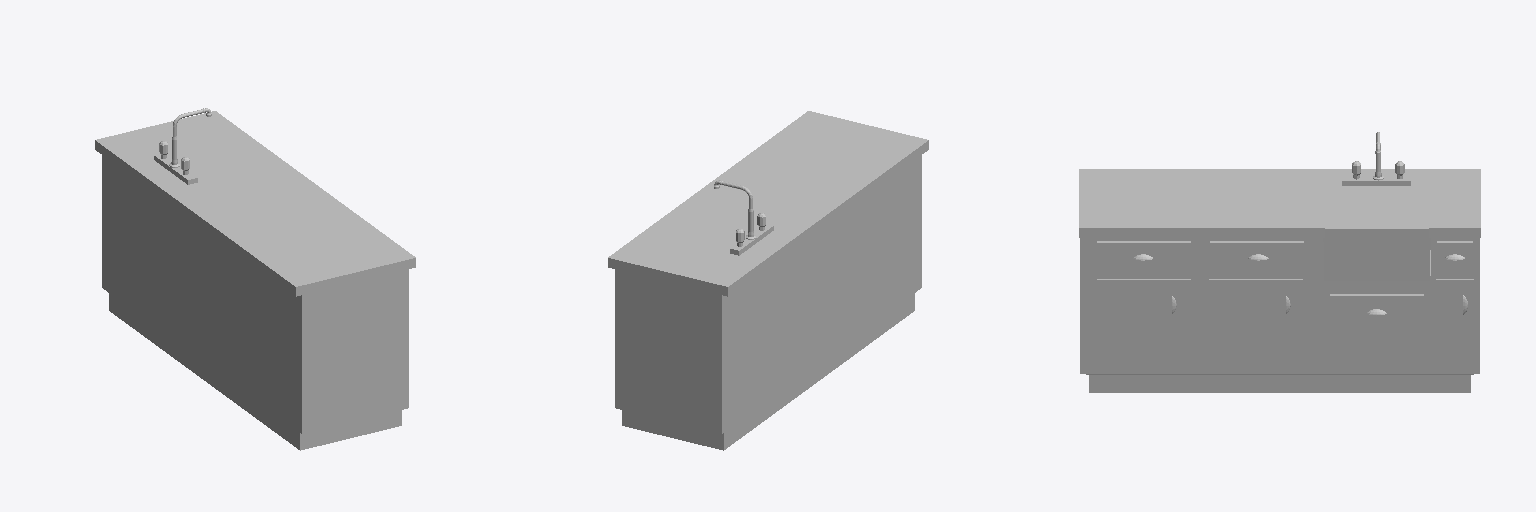
File: Kitchen Counter.obj
3 views of the same model, side by side, from view 1: azimuth 30°, elevation 25°; view 2: azimuth 150°, elevation 25°; view 3: azimuth 270°, elevation 25° (orthographic).
Parts seen in each view (by area): view 1: Kitchen; view 2: Kitchen; view 3: Kitchen.
Part boxes in pixels (x1,y1,x2,y2): Kitchen: (95,108,415,450); Kitchen: (608,111,928,450); Kitchen: (1079,132,1480,392).
Bounding box in the file's own units: 2.38 × 4.2 × 6.82.